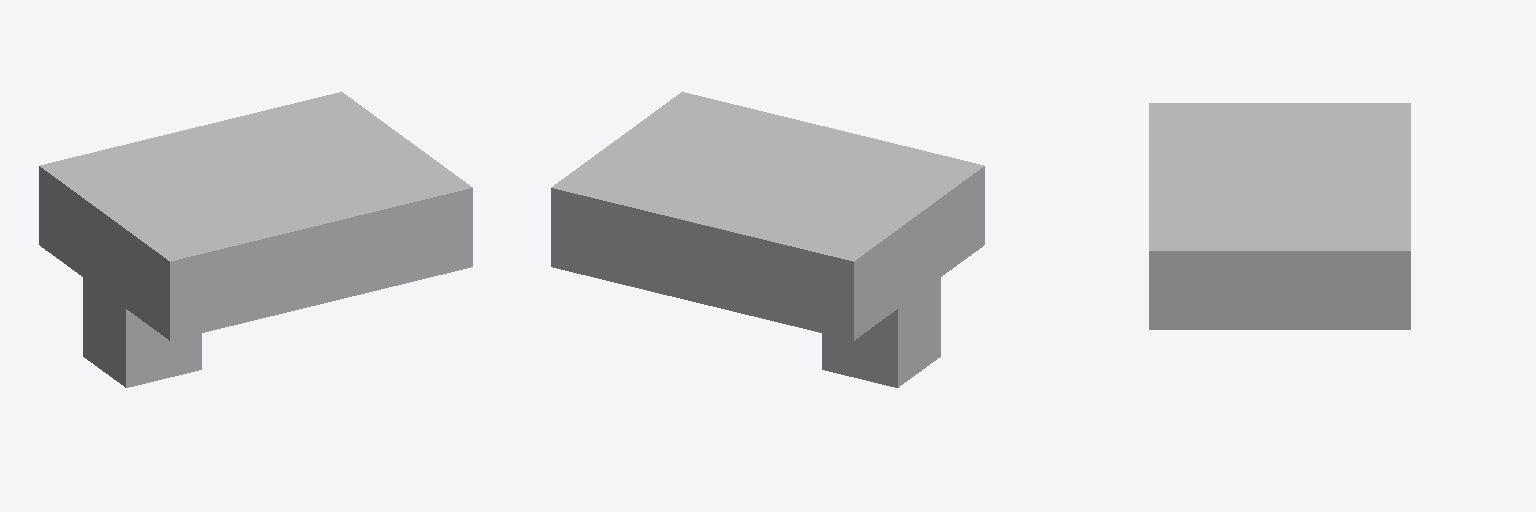
Rendered from prefabRoad0.obj.
3 renders of one model, left to right at view 1: azimuth 30°, elevation 25°; view 2: azimuth 150°, elevation 25°; view 3: azimuth 270°, elevation 25°, orthographic.
Visible parts, largest first — view 1: Cube; view 2: Cube; view 3: Cube.
Boxes of the visible parts, box(x1,y1,x2,y2) form: Cube: box(39, 92, 472, 387); Cube: box(551, 92, 984, 387); Cube: box(1149, 103, 1410, 329).
Size of the model in its own units: 8 by 4 by 6.